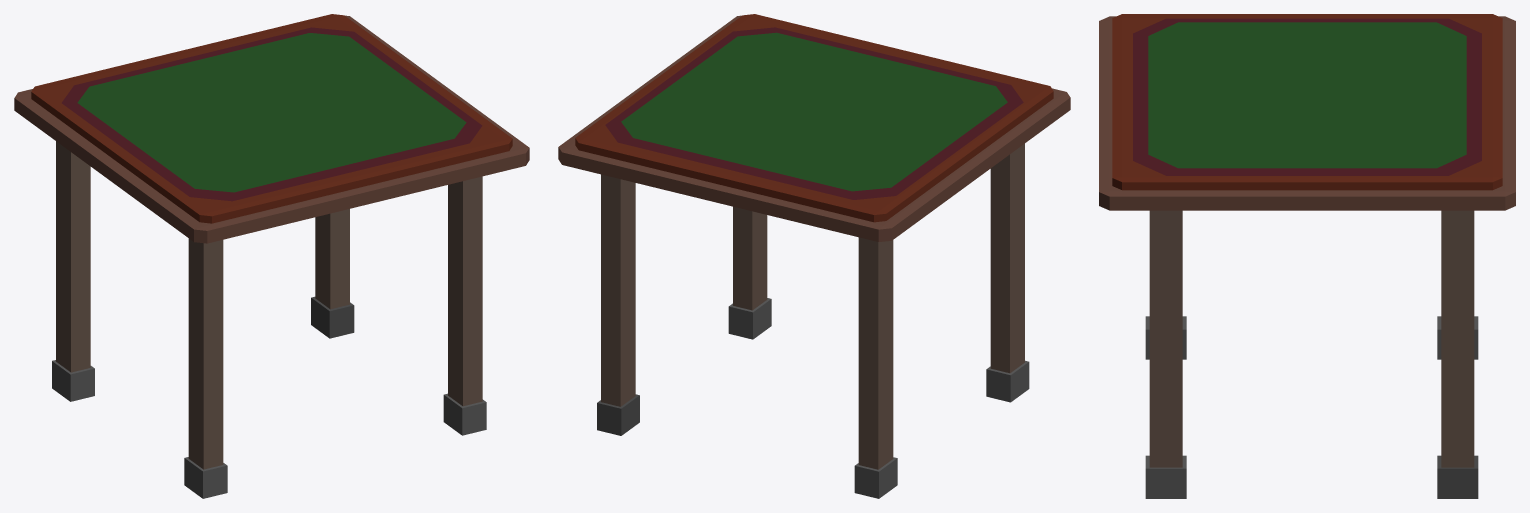
Rendered from table2.fbx.
3 renders of one model, left to right at view 1: azimuth 30°, elevation 25°; view 2: azimuth 150°, elevation 25°; view 3: azimuth 270°, elevation 25°, orthographic. The views are drawn at different scales.
Parts seen in each view (by area): view 1: Plane.001, Cube, Cube.006, Cube.004, Cube.003, Cube.005, Plane, Cube.002; view 2: Plane.001, Cube, Cube.006, Cube.005, Cube.002, Cube.004, Plane, Cube.003; view 3: Plane.001, Cube, Cube.006, Cube.002, Cube.003, Plane.
Part boxes in pixels (x1,y1,x2,y2): Plane.001: (77,33,466,192); Cube: (31,14,512,223); Cube.006: (14,15,529,243); Cube.004: (184,238,227,498); Cube.003: (443,176,486,435); Cube.005: (52,141,94,401); Plane: (62,27,482,201); Cube.002: (311,209,354,338); Plane.001: (621,32,1007,191); Cube: (575,14,1053,222); Cube.006: (558,15,1070,241); Cube.005: (854,237,897,498); Cube.002: (597,174,639,435); Cube.004: (986,143,1029,402); Plane: (605,27,1023,199); Cube.003: (728,206,771,339); Plane.001: (1148,22,1466,168); Cube: (1112,14,1502,190); Cube.006: (1099,16,1515,210); Cube.002: (1437,210,1478,498); Cube.003: (1145,210,1186,498); Plane: (1133,18,1481,175).
Size of the model in its own units: 302 by 256 by 295.
